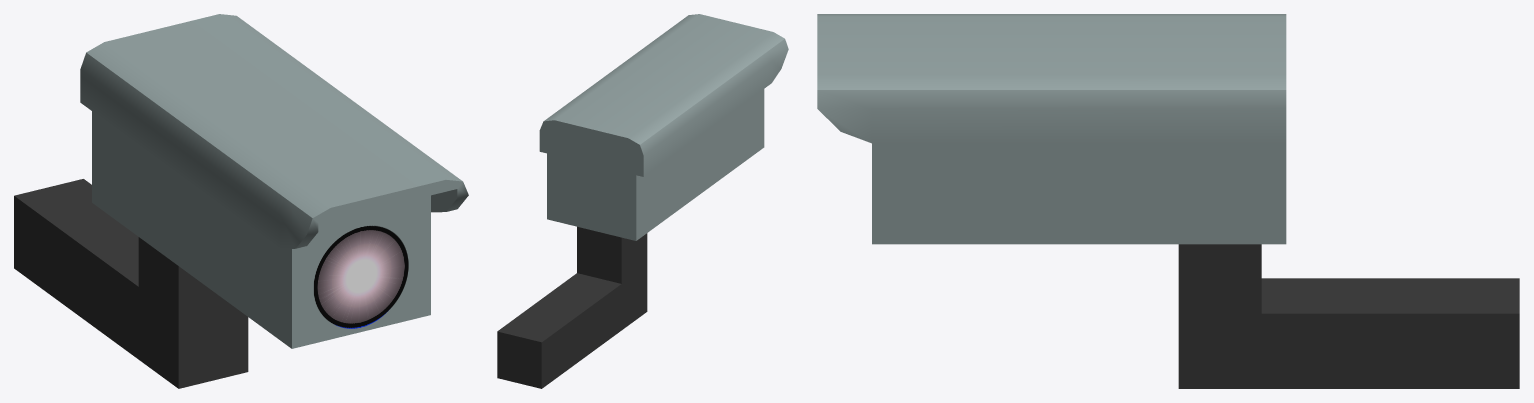
Rendered from Security Camera (rectangle).fbx.
3 views of the same model, side by side, from view 1: azimuth 30°, elevation 25°; view 2: azimuth 150°, elevation 25°; view 3: azimuth 270°, elevation 25° (orthographic). The views are drawn at different scales.
Visible parts, largest first — view 1: polySurface1, polySurface2; view 2: polySurface1, polySurface2; view 3: polySurface1, polySurface2.
Part boxes in pixels (x1,y1,x2,y2): polySurface1: (80, 14, 468, 348); polySurface2: (14, 179, 248, 388); polySurface1: (539, 14, 788, 240); polySurface2: (497, 226, 647, 388); polySurface1: (817, 14, 1286, 244); polySurface2: (1178, 244, 1519, 388).
Bounding box in the file's own units: 1.16 × 2.16 × 4.22.
Materials: 2 (1 with a texture image).
